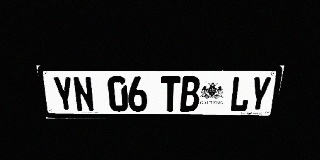0: (107, 76, 128, 112)
6: (127, 76, 147, 112)
B: (180, 76, 200, 112)
L: (229, 76, 252, 112)
N: (72, 76, 95, 112)
T: (161, 76, 180, 112)
Y: (52, 76, 76, 112), (248, 76, 272, 112)
